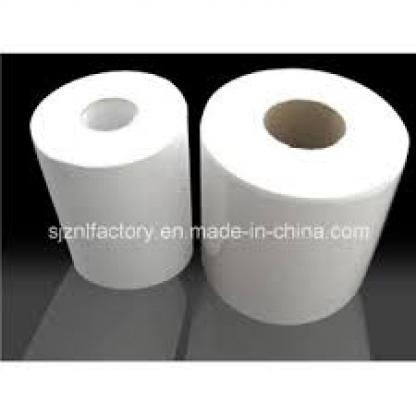tissue: (204, 64, 407, 335), (23, 70, 198, 296)
